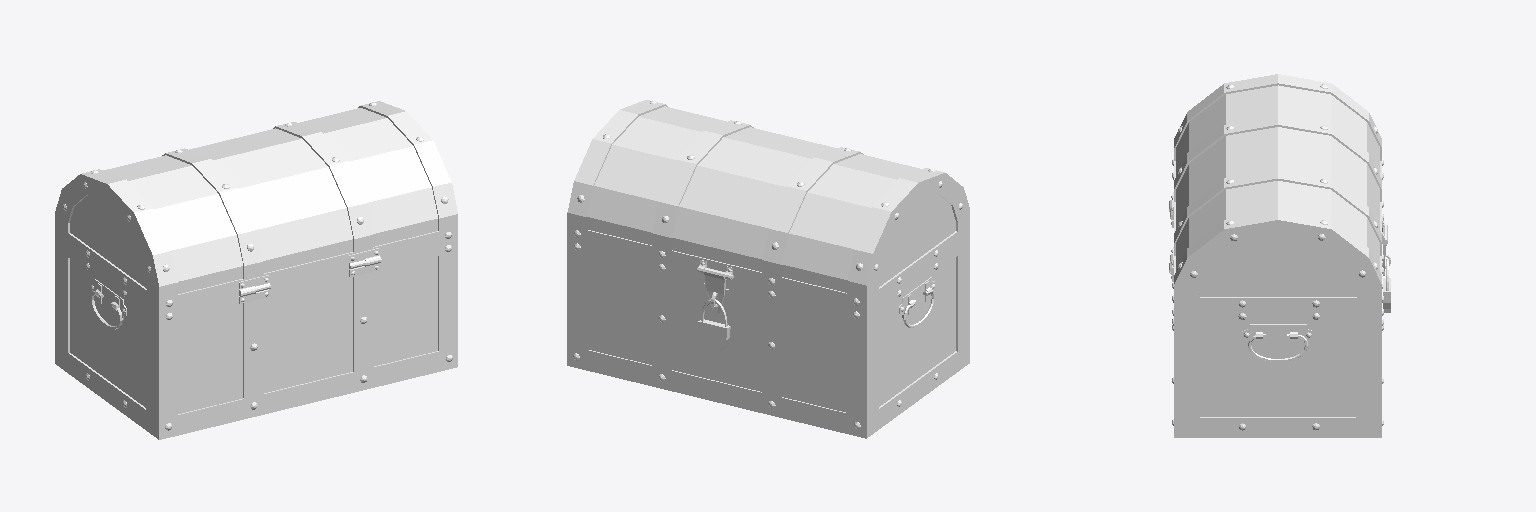
File: medieval_chest.obj
3 views of the same model, side by side, from view 1: azimuth 30°, elevation 25°; view 2: azimuth 150°, elevation 25°; view 3: azimuth 270°, elevation 25° (orthographic).
Visible parts, largest first — view 1: obj1; view 2: obj1; view 3: obj1.
Boxes of the visible parts, x1,y1,x2,y2 form: obj1: [55, 101, 457, 439]; obj1: [567, 100, 969, 438]; obj1: [1169, 74, 1390, 437].
Bounding box in the file's own units: 1792 × 1225 × 1128.